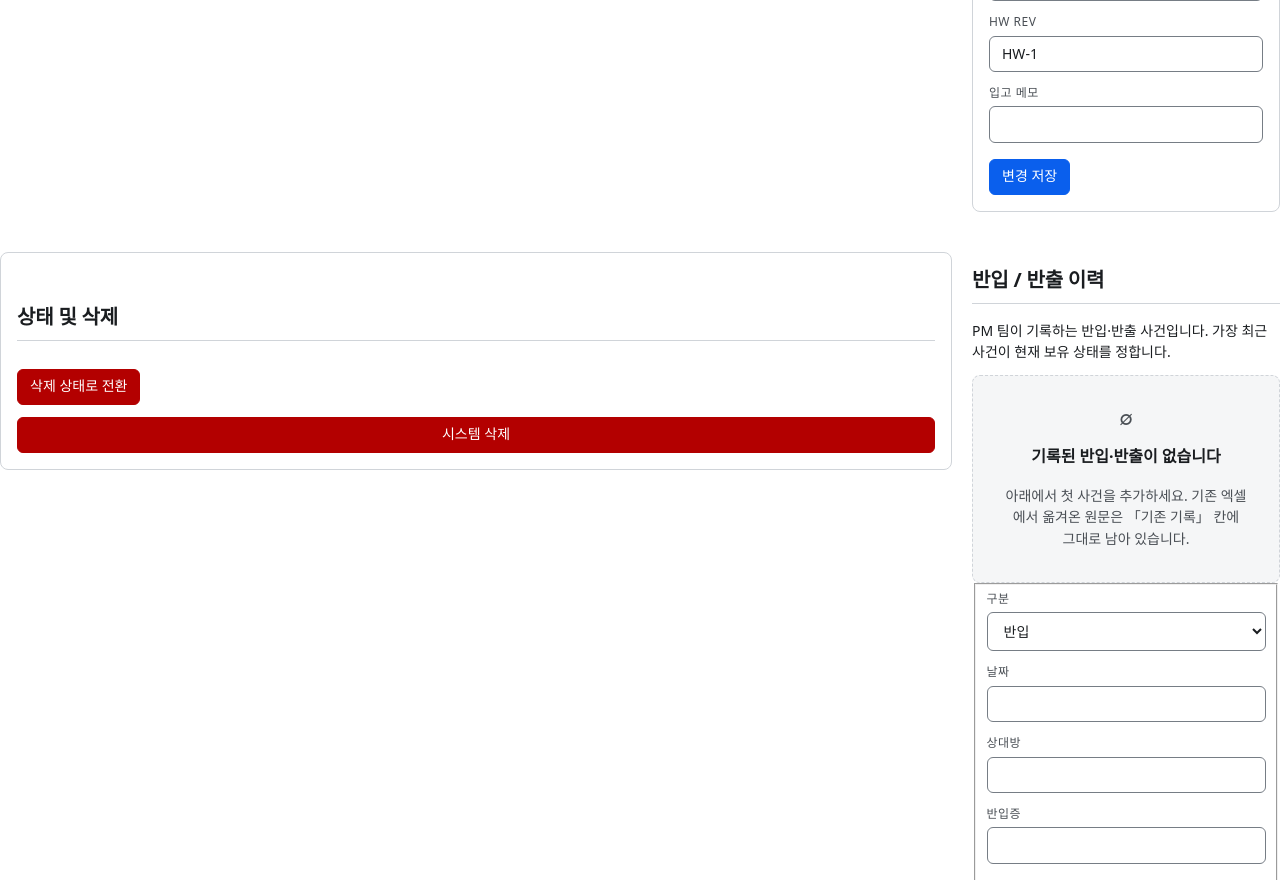
Test: InventoryRoute direct CRUD surface › retains selection and detail when hard delete is rejected
(page scrolled)
What coordinates should you click on to do the following:
click the button with test id "sample-hard-delete"
I would click on:
 (476, 434)
Its box is [17, 416, 935, 452].
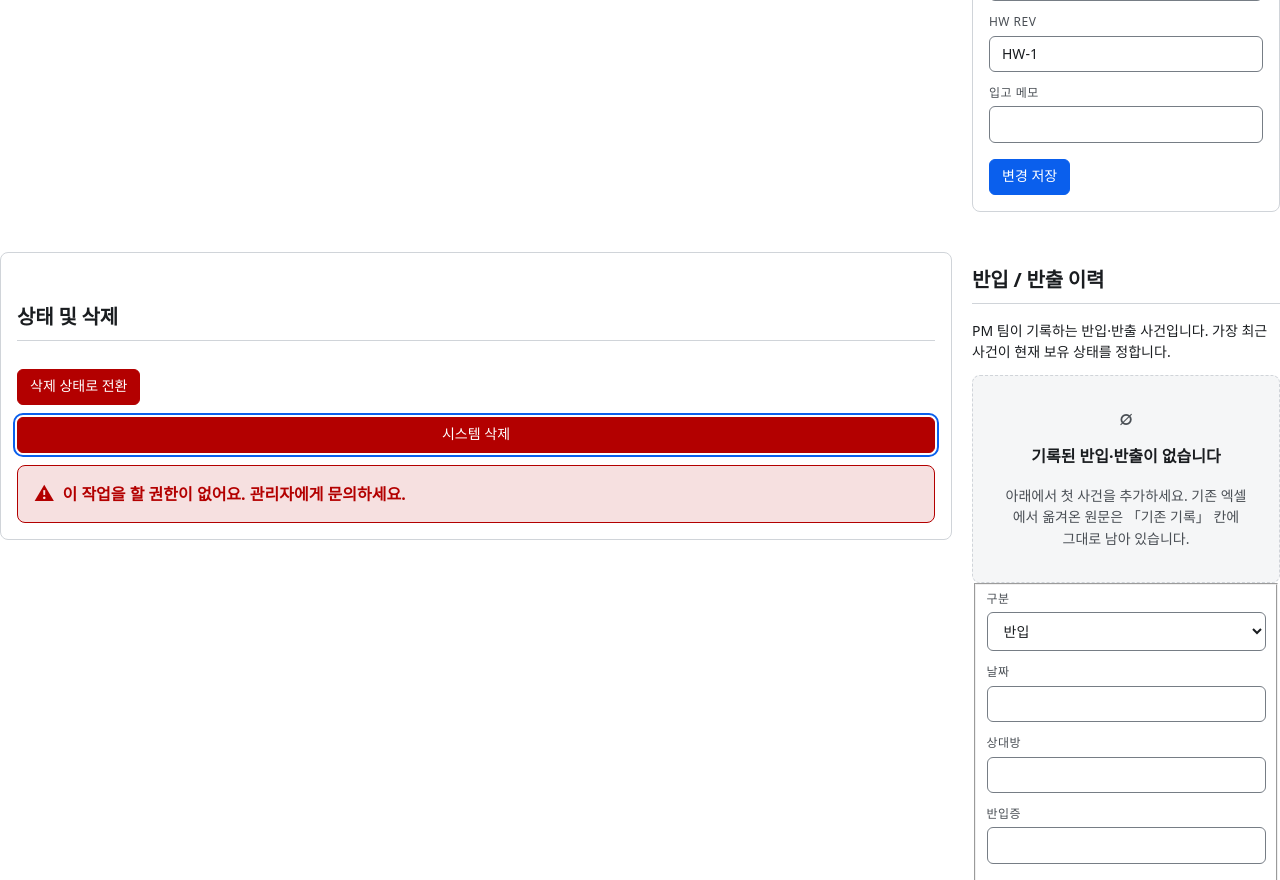
Check: the message "이 작업을 할 권한이 없어요. 관리자에게 문의하세요." is shown, box [17, 464, 935, 523]
